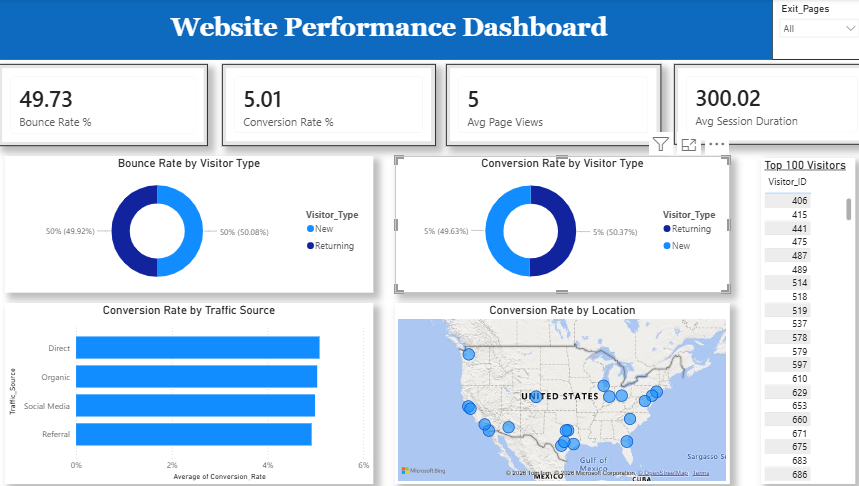

What the dashboard file says about the page in this screenshot:
{"tool":"powerbi","page":{"name":"Page 1","canvas":[1280,720],"ordinal":0},"visuals":[{"type":"slicer","fields":{"Values":["website_performance_analytics (2).Exit_Pages"]},"box":[1132.7,0,139,89.3],"z":0},{"type":"cardVisual","fields":{"Data":["website_performance_analytics (2).Average Bounce Rate"]},"box":[0,94.9,307.3,120],"z":1000},{"type":"cardVisual","fields":{"Data":["website_performance_analytics (2).Average Conversion Rate"]},"box":[327.9,94.9,312.9,119.8],"z":2000},{"type":"cardVisual","fields":{"Data":["website_performance_analytics (2).Average Page Views"]},"box":[655.8,94.9,314.6,119.8],"z":3000},{"type":"cardVisual","fields":{"Data":["website_performance_analytics (2).Average Session Duration"]},"box":[988.7,94.9,288,118.2],"z":4000},{"type":"donutChart","title":"Bounce Rate by Visitor Type","fields":{"Category":["website_performance_analytics (2).Visitor_Type"],"Y":["Avg(website_performance_analytics (2).Bounce_Rate)"]},"box":[10.2,229.8,538.5,200.5],"z":5000},{"type":"donutChart","title":"Conversion Rate by Visitor Type","fields":{"Category":["website_performance_analytics (2).Visitor_Type"],"Y":["Avg(website_performance_analytics (2).Conversion_Rate)"]},"box":[581,229.8,490.2,200.5],"z":6000},{"type":"clusteredBarChart","title":"Conversion Rate by Traffic Source","fields":{"Category":["website_performance_analytics (2).Traffic_Source"],"Y":["Avg(website_performance_analytics (2).Conversion_Rate)"]},"box":[10.2,444.9,538.5,264.9],"z":7000},{"type":"map","title":"Conversion Rate by Location","fields":{"Category":["website_performance_analytics (2).Location"],"Size":["Avg(website_performance_analytics (2).Conversion_Rate)"]},"box":[581,444.9,490.2,264.9],"z":8000},{"type":"tableEx","title":"Top 100 Visitors","fields":{"Values":["website_performance_analytics (2).Visitor_ID"]},"box":[1116.6,232.7,137.6,477.1],"z":9000},{"type":"shape","box":[0,0,1132.7,89.3],"z":10000},{"type":"textbox","box":[133.2,14.6,878,61.5],"z":11000}]}

Visuals, with their boxes in screenshot pixels (x1, y1, x2, y2), scaled from the page's 1280x720 canvas onto the 859x486 screenshot:
slicer - website_performance_analytics (2).Exit_Pages: <bbox>760, 0, 853, 60</bbox>
cardVisual - website_performance_analytics (2).Average Bounce Rate: <bbox>0, 64, 206, 145</bbox>
cardVisual - website_performance_analytics (2).Average Conversion Rate: <bbox>220, 64, 430, 145</bbox>
cardVisual - website_performance_analytics (2).Average Page Views: <bbox>440, 64, 651, 145</bbox>
cardVisual - website_performance_analytics (2).Average Session Duration: <bbox>664, 64, 857, 144</bbox>
"Bounce Rate by Visitor Type" donutChart: <bbox>7, 155, 368, 290</bbox>
"Conversion Rate by Visitor Type" donutChart: <bbox>390, 155, 719, 290</bbox>
"Conversion Rate by Traffic Source" clusteredBarChart: <bbox>7, 300, 368, 479</bbox>
"Conversion Rate by Location" map: <bbox>390, 300, 719, 479</bbox>
"Top 100 Visitors" tableEx: <bbox>749, 157, 842, 479</bbox>
shape: <bbox>0, 0, 760, 60</bbox>
textbox: <bbox>89, 10, 679, 51</bbox>
